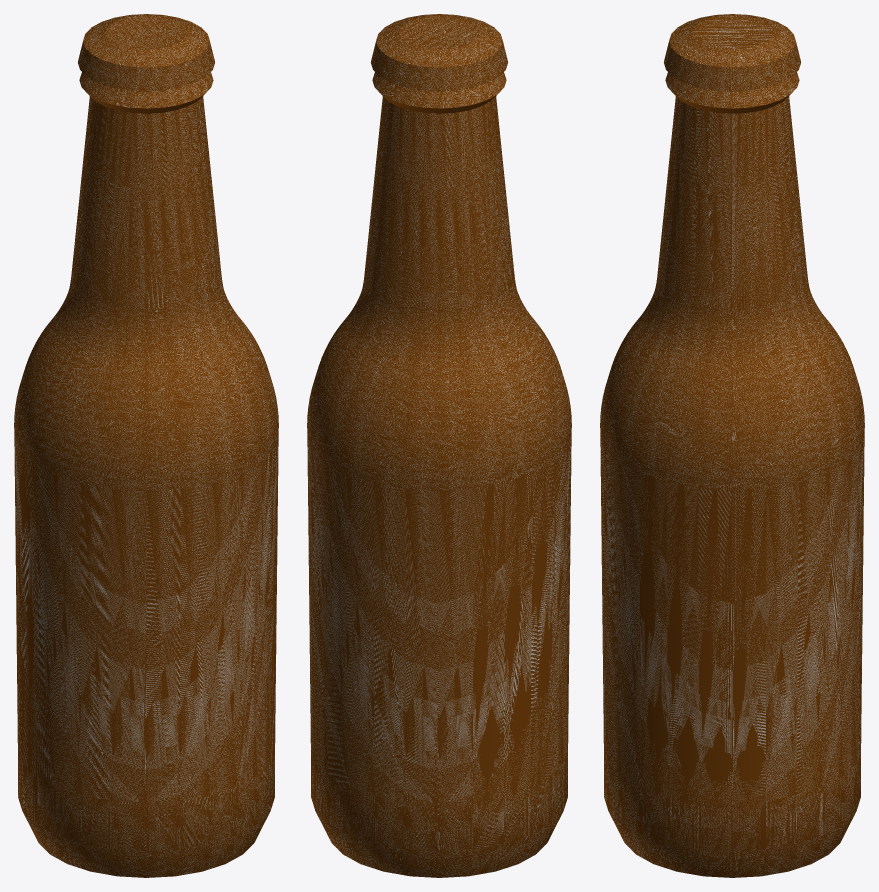
3 renders of one model, left to right at view 1: azimuth 30°, elevation 25°; view 2: azimuth 150°, elevation 25°; view 3: azimuth 270°, elevation 25°, orthographic.
Parts seen in each view (by area): view 1: mesh1_mesh1-geometry; view 2: mesh1_mesh1-geometry; view 3: mesh1_mesh1-geometry.
Part boxes in pixels (x1,y1,x2,y2): mesh1_mesh1-geometry: (14, 14, 278, 877); mesh1_mesh1-geometry: (307, 14, 571, 877); mesh1_mesh1-geometry: (600, 14, 864, 877).
Size of the model in its own units: 0.2767 by 0.9203 by 0.2767.
